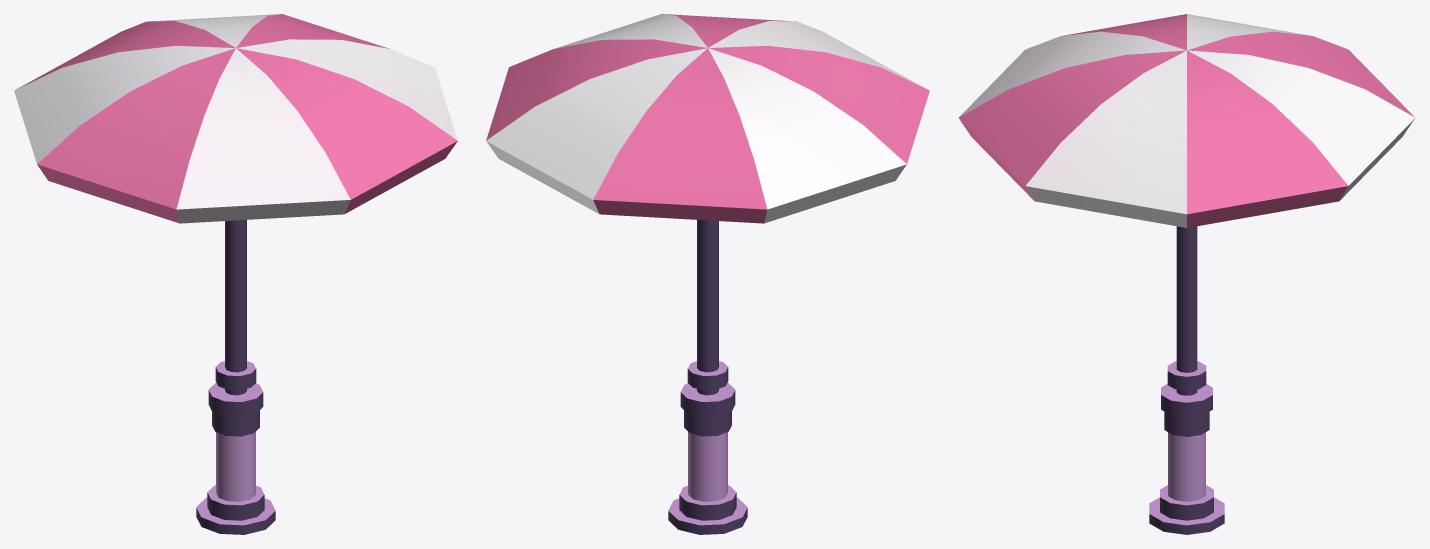
Rendered from O_che.fbx.
3 views of the same model, side by side, from view 1: azimuth 30°, elevation 25°; view 2: azimuth 150°, elevation 25°; view 3: azimuth 270°, elevation 25° (orthographic).
Parts seen in each view (by area): view 1: O_che; view 2: O_che; view 3: O_che.
Boxes of the visible parts, box(x1,y1,x2,y2) form: O_che: box(14, 14, 457, 534); O_che: box(486, 14, 929, 534); O_che: box(958, 14, 1415, 534).
Bounding box in the file's own units: 523 × 591 × 523.
